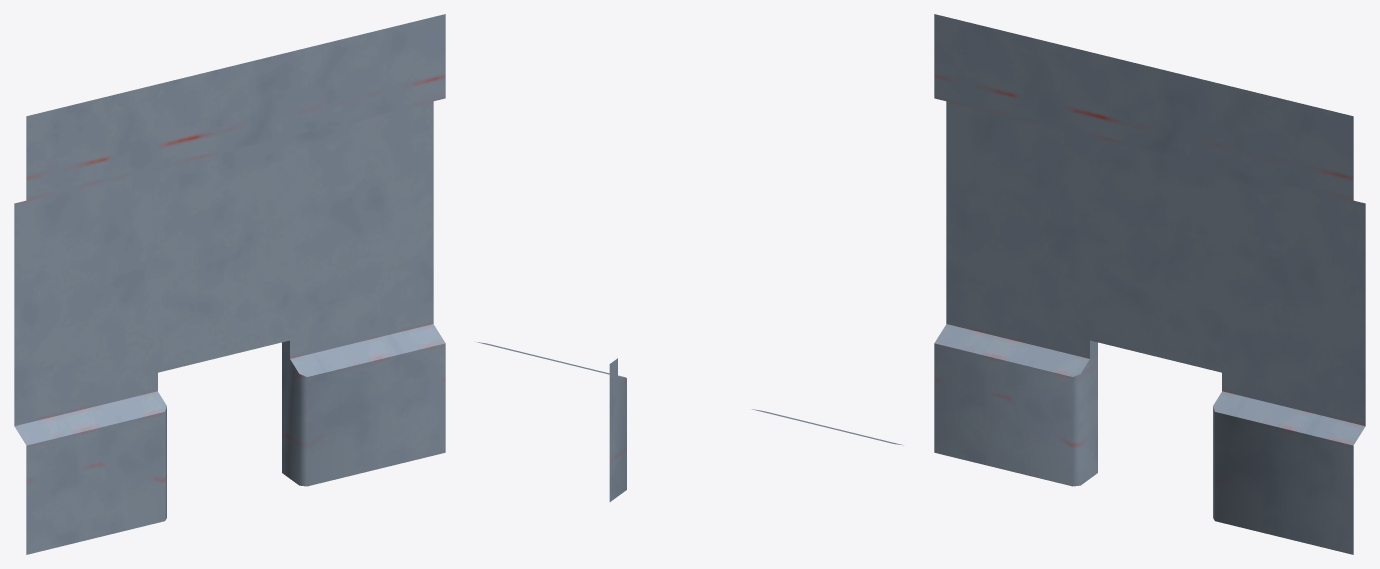
File: Wall_MTNDoor.glb
3 views of the same model, side by side, from view 1: azimuth 30°, elevation 25°; view 2: azimuth 150°, elevation 25°; view 3: azimuth 330°, elevation 25° (orthographic).
Parts seen in each view (by area): view 1: Wall_MTNDoor; view 2: Wall_MTNDoor; view 3: Wall_MTNDoor.
Part boxes in pixels (left/top/right/bottom): Wall_MTNDoor: left=14, top=14, right=445, bottom=554; Wall_MTNDoor: left=476, top=342, right=903, bottom=501; Wall_MTNDoor: left=934, top=14, right=1365, bottom=554.
Bounding box in the file's own units: 6 × 6 × 0.5.
1 material, 1 textured.
